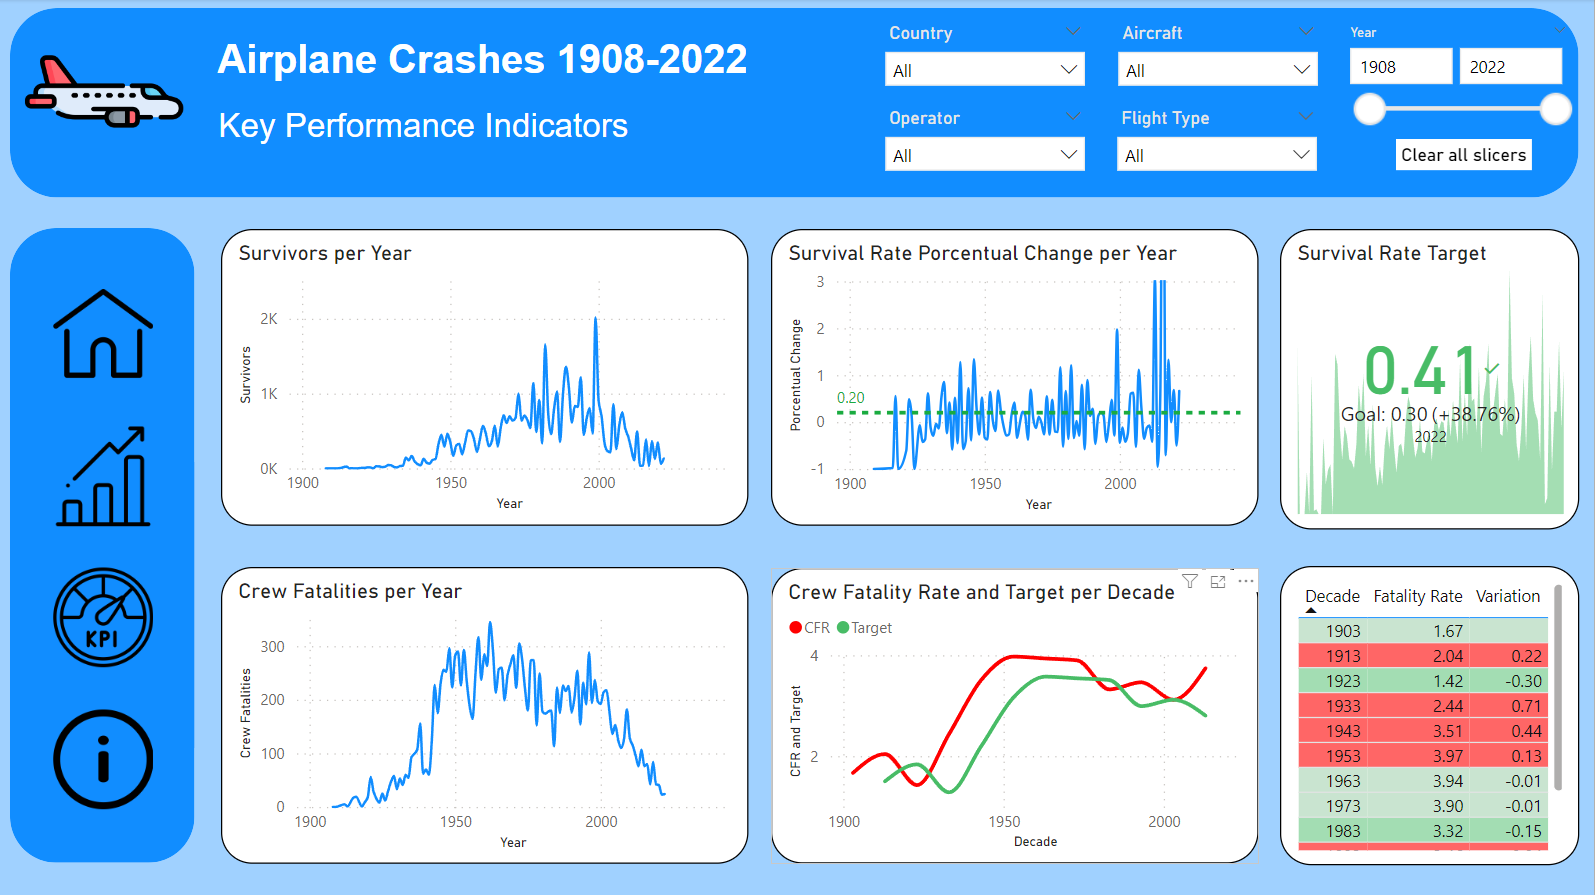

What the dashboard file says about the page in this screenshot:
{"tool":"powerbi","page":{"name":"KPI'S","canvas":[1280,720],"ordinal":2},"visuals":[{"type":"shape","box":[10,7,1258,152],"z":0},{"type":"image","box":[39,222,89.8,91.2],"z":0,"group":"g1"},{"type":"shape","box":[10,184,148,509],"z":1000},{"type":"slicer","fields":{"Values":["clean (2).Country"]},"box":[701.7,14.6,179.8,60.3],"z":2000},{"type":"image","box":[39,450,89.8,91.2],"z":2000,"group":"g1"},{"type":"slicer","fields":{"Values":["clean (2).Operator"]},"box":[701.7,82.6,179.8,60.3],"z":3000},{"type":"image","box":[39,337,90,91],"z":3000,"group":"g1"},{"type":"slicer","fields":{"Values":["clean (2).AC Type"]},"box":[888.3,14.6,179.8,60.3],"z":4000},{"type":"image","box":[39.2,564,89.5,91],"z":4000,"group":"g1"},{"type":"slicer","fields":{"Values":["Calendar.Year"]},"box":[1071.2,15,198.8,98.8],"z":5000},{"type":"slicer","fields":{"Values":["Data.Column"]},"box":[887.7,82.6,180.1,60.8],"z":6000},{"type":"textbox","box":[171.3,82.1,352.2,50.3],"z":7000},{"type":"actionButton","box":[1121,112,109,25],"z":8000},{"type":"image","box":[14,6,143,137],"z":9000},{"type":"textbox","box":[171,26,454,49],"z":10000},{"type":"lineChart","fields":{"Category":["Calendar.Year"],"Y":["KPI_1_Crew_Mortality_Rate.Crew Fatality Rate"]},"box":[625,454,364,238],"z":12000},{"type":"tableEx","fields":{"Values":["Calendar.Year","KPI_1_Crew_Mortality_Rate.Crew Fatality Rate","KPI_1_Crew_Mortality_Rate.CFR LY PCT"]},"box":[1007.5,452.5,260,238.8],"z":13000},{"type":"lineChart","title":"Crew Fatalities by Year","fields":{"Y":["Sum(Data.Fatalities Crew)"],"Category":["Data.Year"]},"box":[180,454,424,238],"z":14000},{"type":"lineChart","title":"Survivors by Year","fields":{"Y":["Sum(Data.Survivors)"],"Category":["Data.Year"]},"box":[180,184,424,238],"z":15000},{"type":"lineChart","title":"Survival Rate Porcentual Change by Year","fields":{"Category":["Calendar.Year"],"Y":["KPI_2_Survival_Rate.SR LY PCT"]},"box":[625,184,364,238],"z":16000},{"type":"kpi","title":"Survival Rate Target","fields":{"Goal":["KPI_2_Survival_Rate.SR_Target"],"TrendLine":["Calendar.Year"],"Indicator":["KPI_2_Survival_Rate.SR"]},"box":[1008,184,260,238],"z":18001},{"type":"group","id":"g1","title":"Group 3","box":[39,222,90,433],"z":18002}]}

Visuals, with their boxes in screenshot pixels (x1, y1, x2, y2), scaled from the page's 1280x720 canvas onto the 1595x895 screenshot:
shape: [x1=12, y1=9, x2=1580, y2=198]
image: [x1=49, y1=276, x2=160, y2=389]
shape: [x1=12, y1=229, x2=197, y2=861]
slicer - clean (2).Country: [x1=874, y1=18, x2=1098, y2=93]
image: [x1=49, y1=559, x2=160, y2=673]
slicer - clean (2).Operator: [x1=874, y1=103, x2=1098, y2=178]
image: [x1=49, y1=419, x2=161, y2=532]
slicer - clean (2).AC Type: [x1=1107, y1=18, x2=1331, y2=93]
image: [x1=49, y1=701, x2=160, y2=814]
slicer - Calendar.Year: [x1=1335, y1=19, x2=1583, y2=141]
slicer - Data.Column: [x1=1106, y1=103, x2=1331, y2=178]
textbox: [x1=213, y1=102, x2=652, y2=165]
actionButton: [x1=1397, y1=139, x2=1533, y2=170]
image: [x1=17, y1=7, x2=196, y2=178]
textbox: [x1=213, y1=32, x2=779, y2=93]
lineChart - Calendar.Year x KPI_1_Crew_Mortality_Rate.Crew Fatality Rate: [x1=779, y1=564, x2=1232, y2=860]
tableEx - Calendar.Year x KPI_1_Crew_Mortality_Rate.Crew Fatality Rate: [x1=1255, y1=562, x2=1579, y2=859]
"Crew Fatalities by Year" lineChart: [x1=224, y1=564, x2=753, y2=860]
"Survivors by Year" lineChart: [x1=224, y1=229, x2=753, y2=525]
"Survival Rate Porcentual Change by Year" lineChart: [x1=779, y1=229, x2=1232, y2=525]
"Survival Rate Target" kpi: [x1=1256, y1=229, x2=1580, y2=525]
"Group 3" group: [x1=49, y1=276, x2=161, y2=814]
